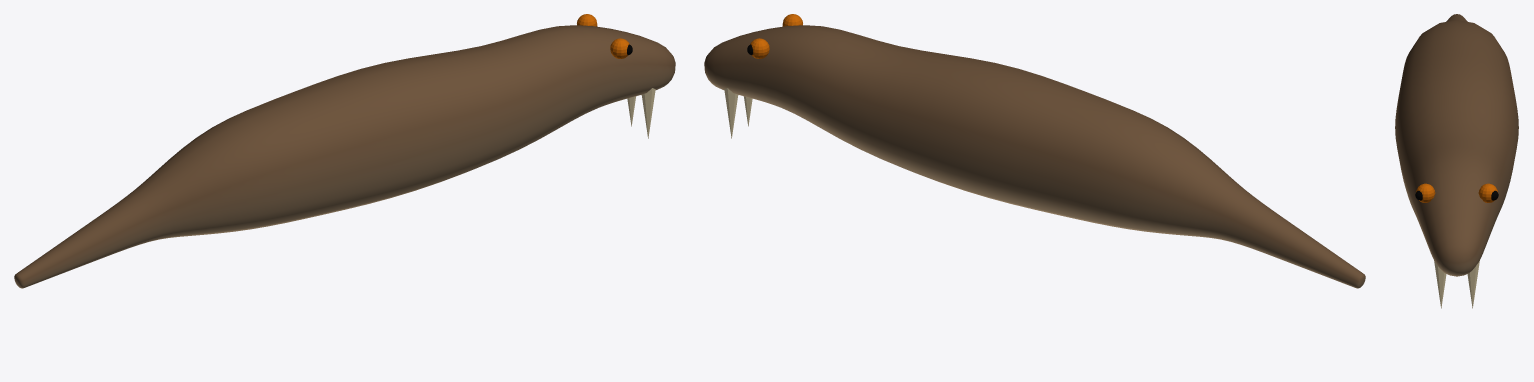
The model's file is inostrancevia.glb.
3 renders of one model, left to right at view 1: azimuth 30°, elevation 25°; view 2: azimuth 150°, elevation 25°; view 3: azimuth 270°, elevation 25°, orthographic. The views are drawn at different scales.
Parts seen in each view (by area): view 1: corpo; view 2: corpo; view 3: corpo.
Boxes of the visible parts, bbox=[...] form: corpo: bbox=[14, 14, 675, 288]; corpo: bbox=[704, 14, 1365, 288]; corpo: bbox=[1395, 14, 1518, 308].
Bounding box in the file's own units: 3.64 × 1.29 × 0.64.
